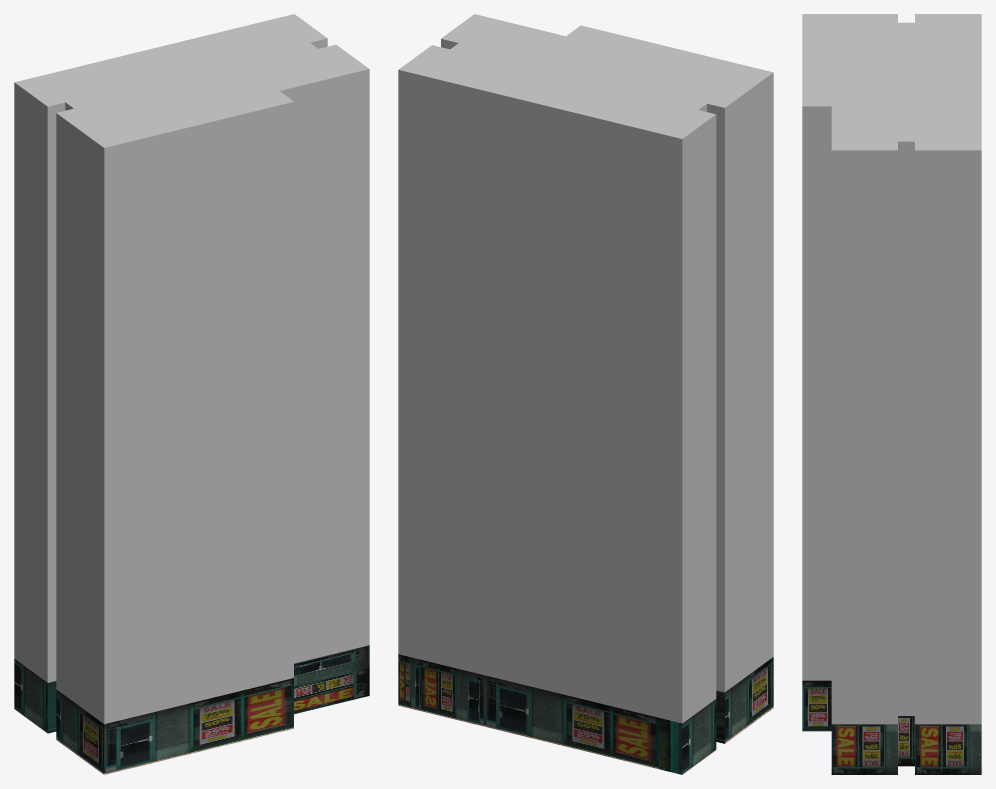
The model's file is NEW building 8.fbx.
3 views of the same model, side by side, from view 1: azimuth 30°, elevation 25°; view 2: azimuth 150°, elevation 25°; view 3: azimuth 270°, elevation 25° (orthographic).
Visible parts, largest first — view 1: Object_6.011; view 2: Object_6.011; view 3: Object_6.011.
Boxes of the visible parts, bbox=[...] form: Object_6.011: bbox=[14, 14, 369, 774]; Object_6.011: bbox=[398, 14, 773, 774]; Object_6.011: bbox=[802, 14, 981, 774].
Bounding box in the file's own units: 347 × 743 × 193.
